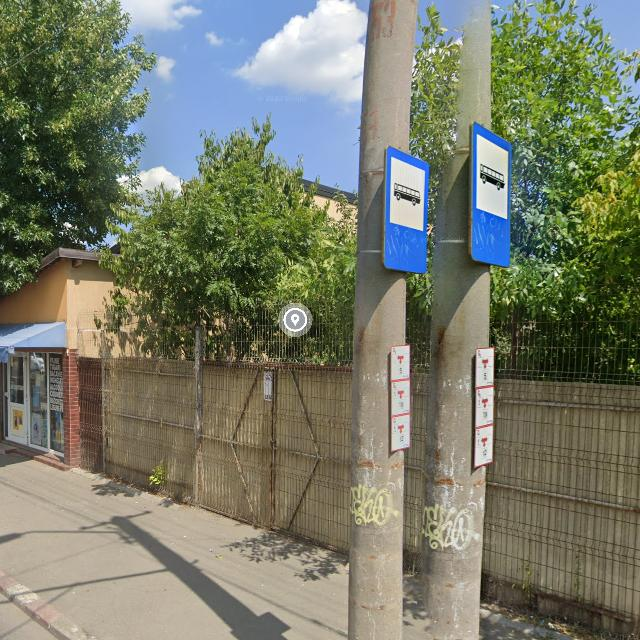info_bus_station: (468, 122, 512, 268), (384, 146, 428, 273)
